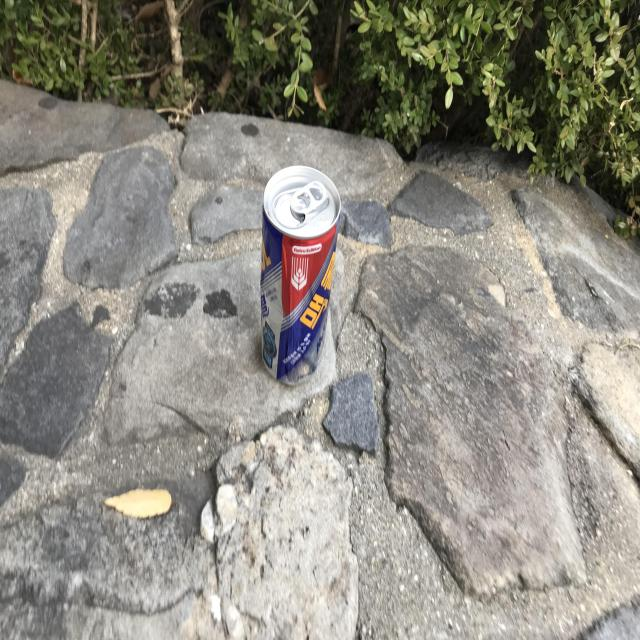can: (260, 165, 341, 384)
